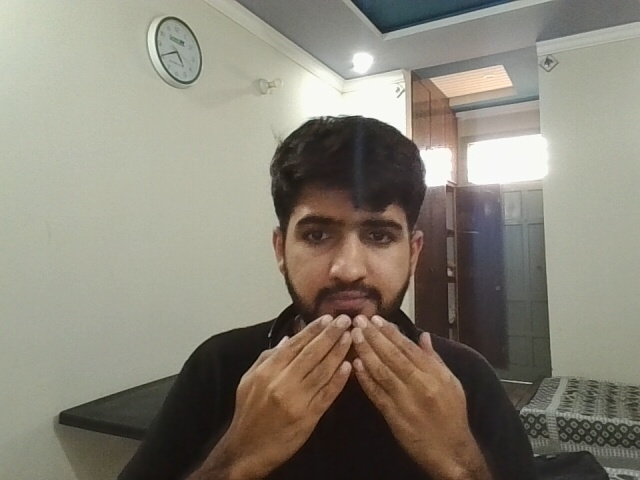Thanks: (203, 307, 497, 456)
